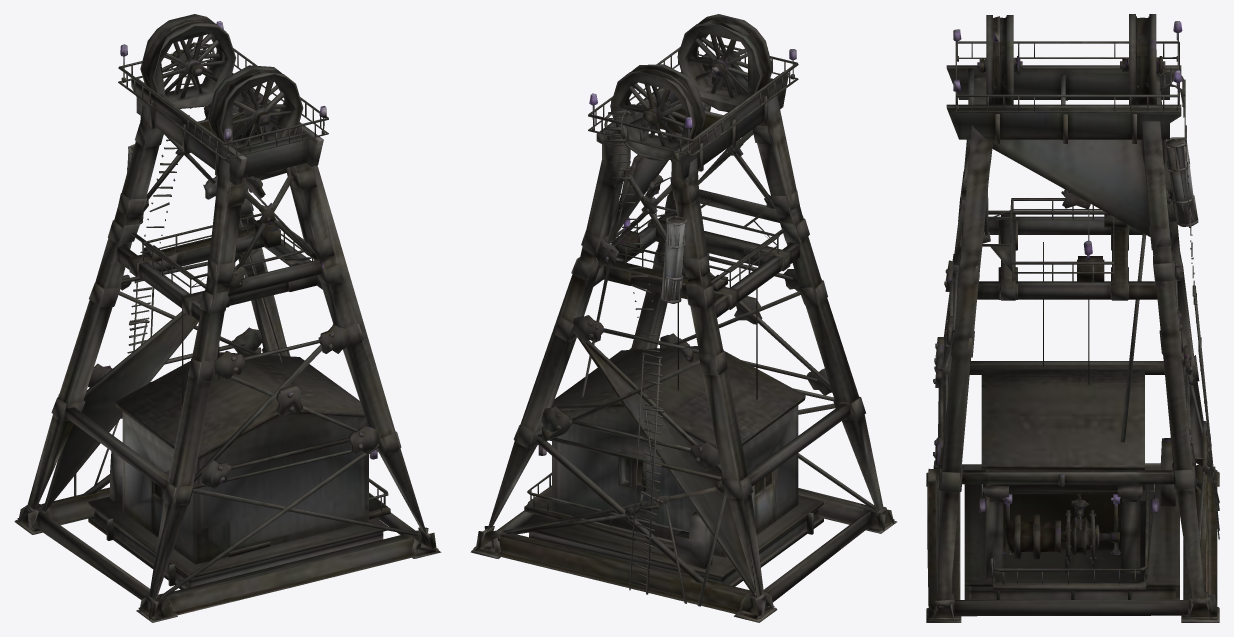
File: headframe.glb
The picture shows the model from 3 angles, left to right: view 1: azimuth 30°, elevation 25°; view 2: azimuth 150°, elevation 25°; view 3: azimuth 270°, elevation 25°; orthographic projection. The views are drawn at different scales.
Parts seen in each view (by area): view 1: tripo_node_4ec3e4e9-c773-41ab-a00f-2c647d84fe53; view 2: tripo_node_4ec3e4e9-c773-41ab-a00f-2c647d84fe53; view 3: tripo_node_4ec3e4e9-c773-41ab-a00f-2c647d84fe53.
Part boxes in pixels (box(x1,y1,x2,y2)): tripo_node_4ec3e4e9-c773-41ab-a00f-2c647d84fe53: box(14, 14, 441, 622); tripo_node_4ec3e4e9-c773-41ab-a00f-2c647d84fe53: box(470, 14, 896, 622); tripo_node_4ec3e4e9-c773-41ab-a00f-2c647d84fe53: box(926, 14, 1219, 622).
Bounding box in the file's own units: 0.6113 × 0.998 × 0.5059.
1 material, 1 textured.
